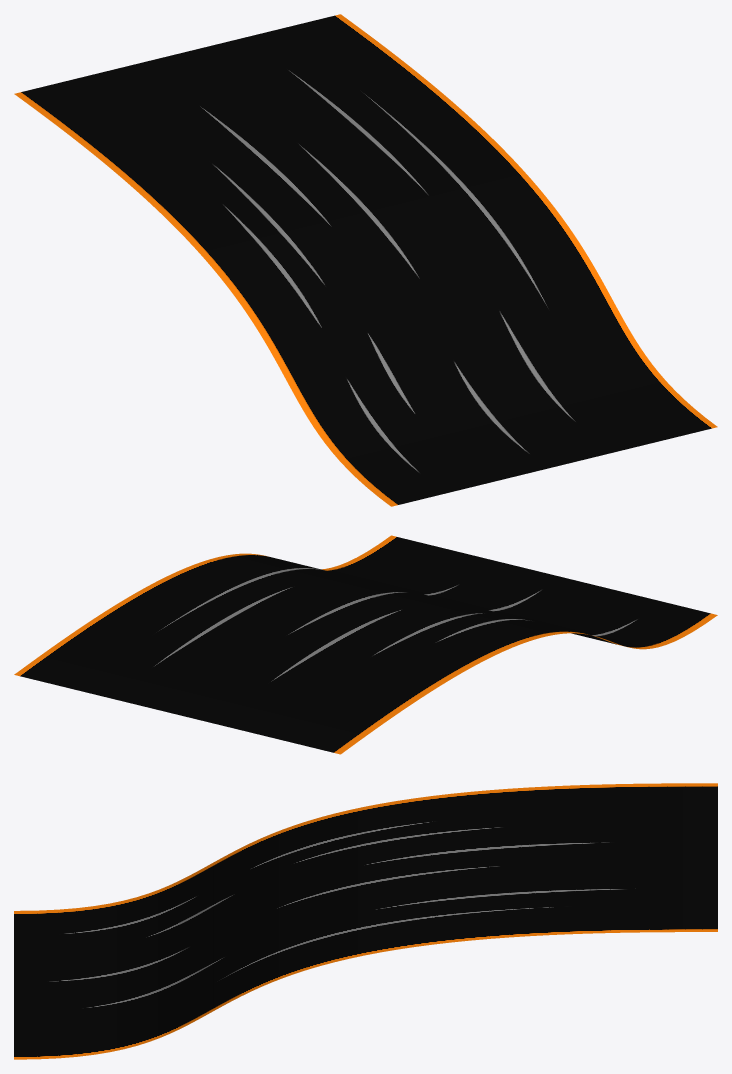
Rendered from TrackSlope.fbx.
The picture shows the model from 3 angles, top to bottom: view 1: azimuth 30°, elevation 25°; view 2: azimuth 150°, elevation 25°; view 3: azimuth 270°, elevation 25°; orthographic projection. The views are drawn at different scales.
Visible parts, largest first — view 1: BetterIncline; view 2: BetterIncline; view 3: BetterIncline.
Part boxes in pixels (x1=…): BetterIncline: x1=14, y1=14, x2=717, y2=506; BetterIncline: x1=14, y1=535, x2=717, y2=754; BetterIncline: x1=14, y1=783, x2=717, y2=1059.
Size of the model in its own units: 100 by 40 by 200.
